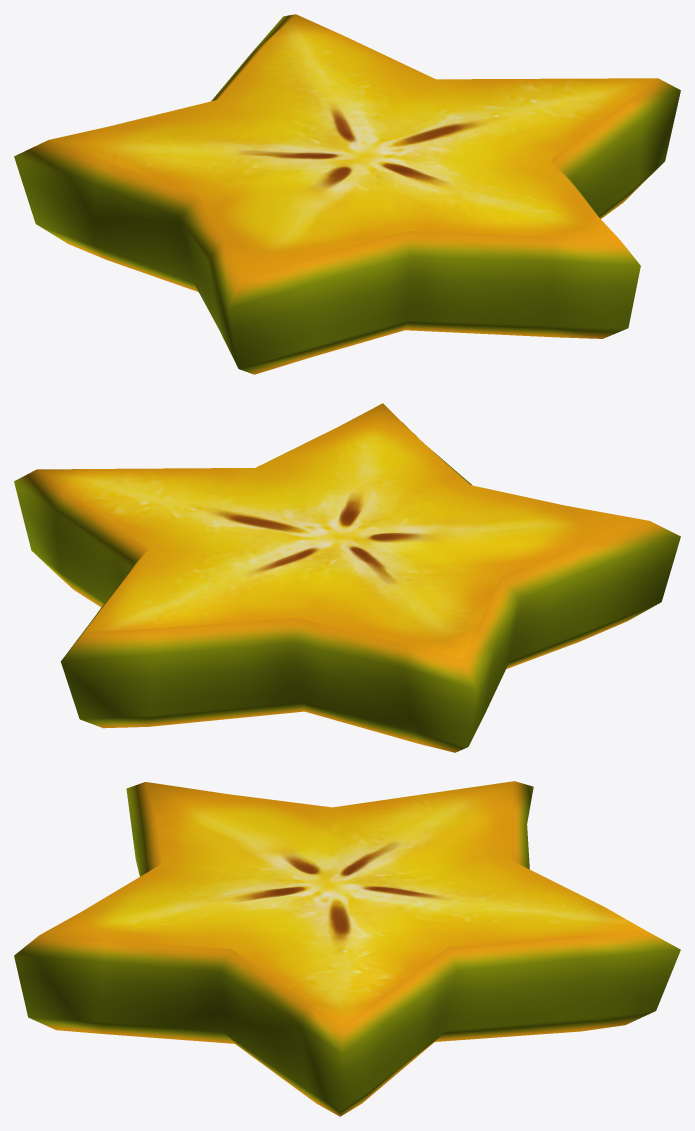
File: CutStarFruit.fbx
The picture shows the model from 3 angles, top to bottom: view 1: azimuth 30°, elevation 25°; view 2: azimuth 150°, elevation 25°; view 3: azimuth 270°, elevation 25°; orthographic projection. The views are drawn at different scales.
Parts seen in each view (by area): view 1: Starfruit_Slice; view 2: Starfruit_Slice; view 3: Starfruit_Slice.
Part boxes in pixels (x1,y1,x2,y2): Starfruit_Slice: (14, 14, 680, 374); Starfruit_Slice: (14, 403, 680, 752); Starfruit_Slice: (14, 781, 680, 1116).
Size of the model in its own units: 35.75 by 6.18 by 37.61.
